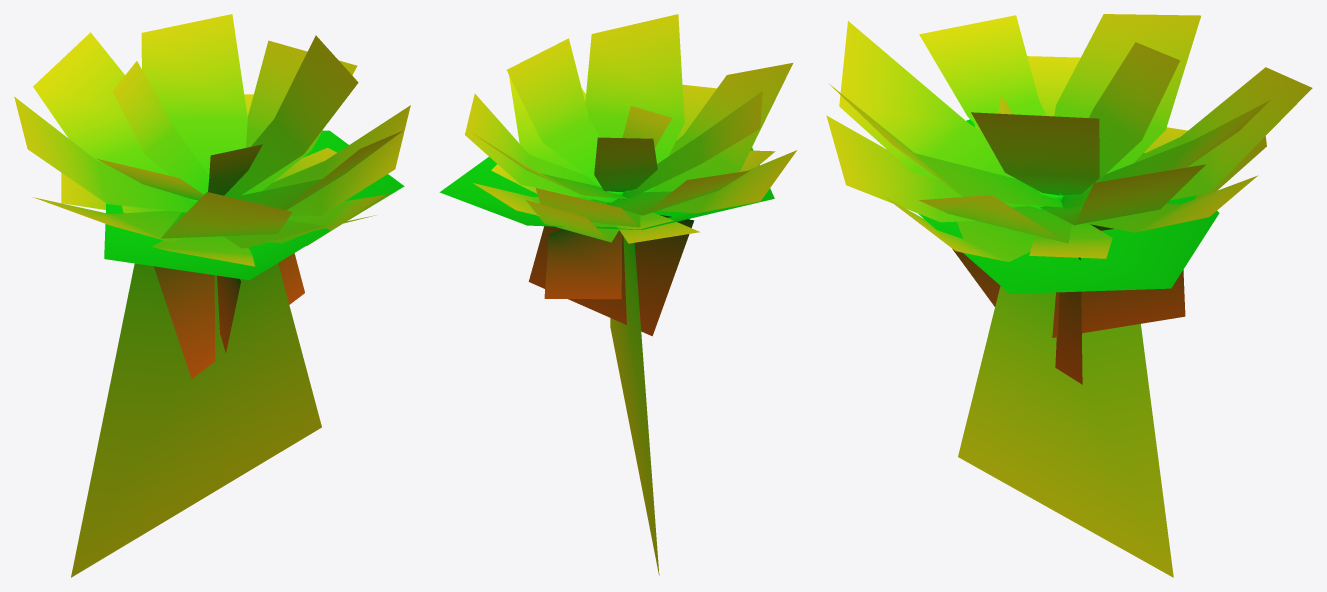
The model's file is Water Cabbage_LOD2_Var5_sjdlV.fbx.
The picture shows the model from 3 angles, left to right: view 1: azimuth 30°, elevation 25°; view 2: azimuth 150°, elevation 25°; view 3: azimuth 270°, elevation 25°; orthographic projection. The views are drawn at different scales.
Parts seen in each view (by area): view 1: _460f_Var5_LOD2; view 2: _460f_Var5_LOD2; view 3: _460f_Var5_LOD2.
Part boxes in pixels (x1,y1,x2,y2): _460f_Var5_LOD2: (14,14,410,577); _460f_Var5_LOD2: (439,14,796,575); _460f_Var5_LOD2: (826,14,1312,577).
Size of the model in its own units: 14.75 by 21.46 by 16.47.
